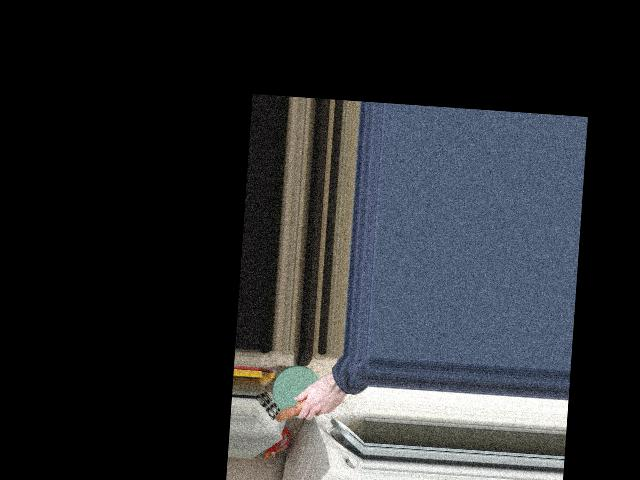sweet_potato: (277, 383, 330, 425)
